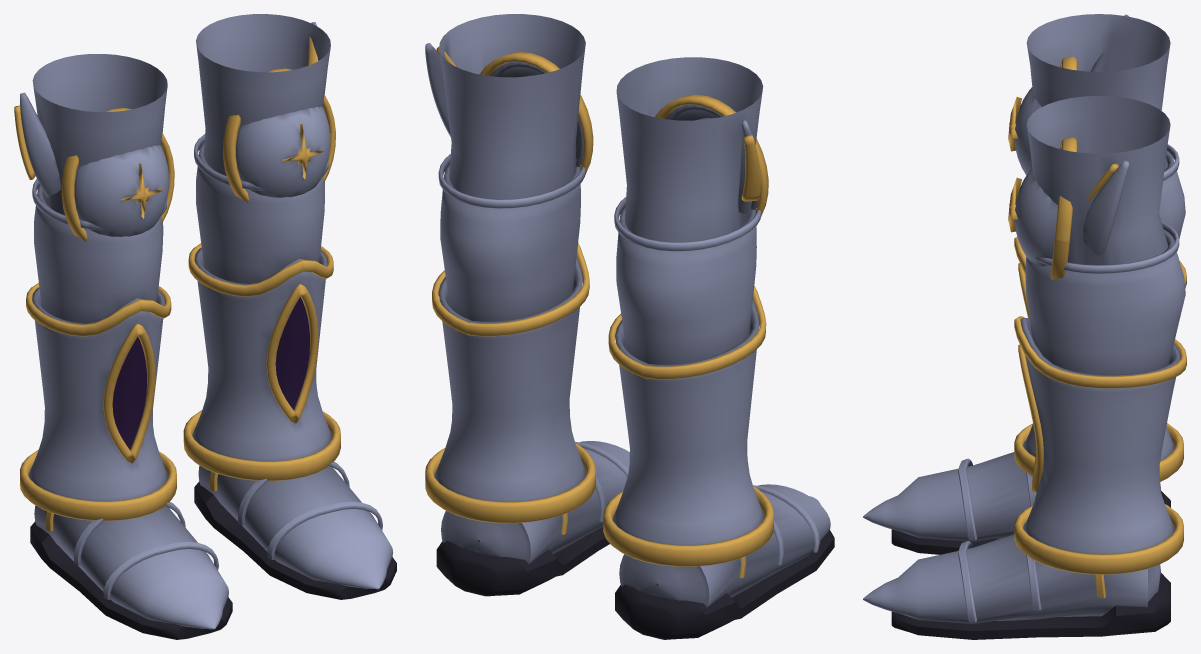
File: f_cosmic_f.glb
3 renders of one model, left to right at view 1: azimuth 30°, elevation 25°; view 2: azimuth 150°, elevation 25°; view 3: azimuth 270°, elevation 25°, orthographic. The views are drawn at different scales.
Visible parts, largest first — view 1: LegR_Boot, LegL_Boot, LegR_BootFoot, LegL_BootFoot; view 2: LegL_Boot, LegR_Boot, LegR_BootFoot, LegL_BootFoot; view 3: LegL_Boot, LegL_BootFoot, LegR_Boot, LegR_BootFoot.
Part boxes in pixels (x1,y1,x2,y2): LegR_Boot: (14,54,176,520); LegL_Boot: (183,14,340,480); LegR_BootFoot: (30,502,232,639); LegL_BootFoot: (194,462,396,599); LegL_Boot: (425,14,595,523); LegR_Boot: (603,57,773,566); LegR_BootFoot: (615,484,834,639); LegL_BootFoot: (436,441,629,596); LegL_Boot: (1008,96,1186,574); LegL_BootFoot: (863,523,1170,639); LegR_Boot: (1008,14,1186,481); LegR_BootFoot: (863,441,1170,554).
Bounding box in the file's own units: 0.3974 × 0.599 × 0.3565.
